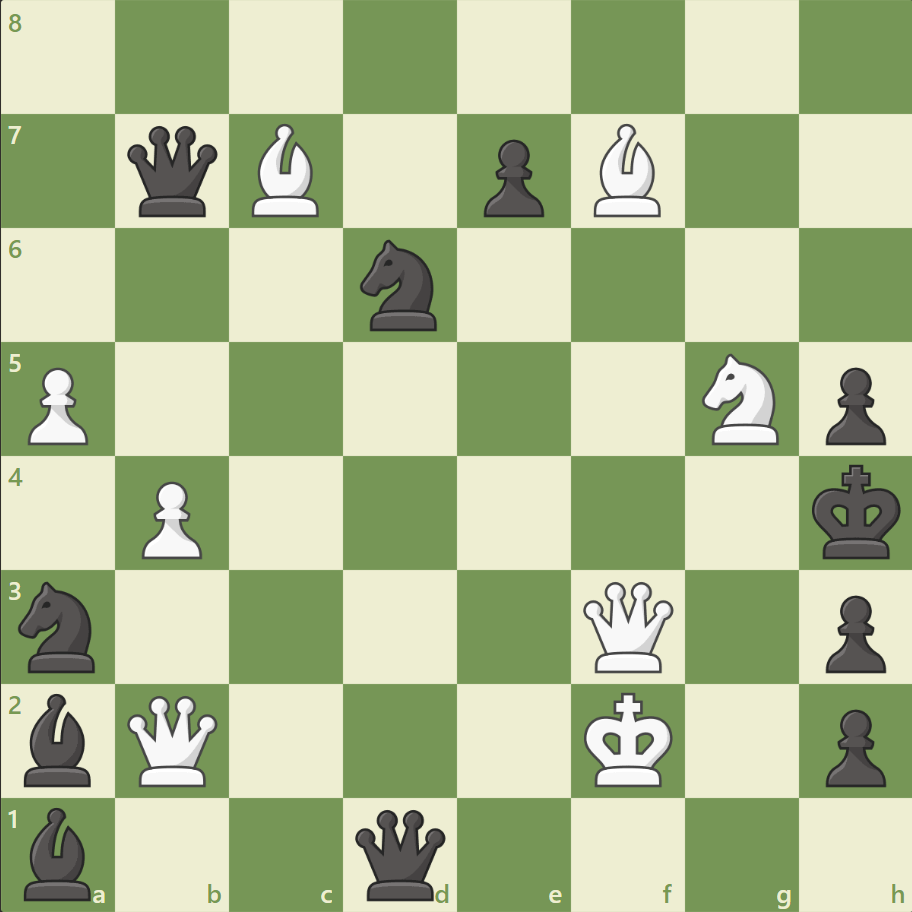B: (244, 120, 328, 222), (585, 120, 669, 222)
K: (579, 685, 679, 793)
N: (692, 348, 789, 450)
P: (20, 359, 95, 450), (133, 473, 208, 564)
Q: (578, 576, 677, 676), (124, 690, 223, 789)
b: (17, 687, 101, 790), (17, 801, 101, 904)
k: (806, 458, 906, 566)
n: (351, 234, 449, 337), (11, 575, 108, 677)
p: (474, 132, 549, 223), (815, 359, 889, 450), (815, 586, 889, 677), (815, 700, 889, 791)
q: (124, 122, 223, 222), (351, 804, 450, 903)
